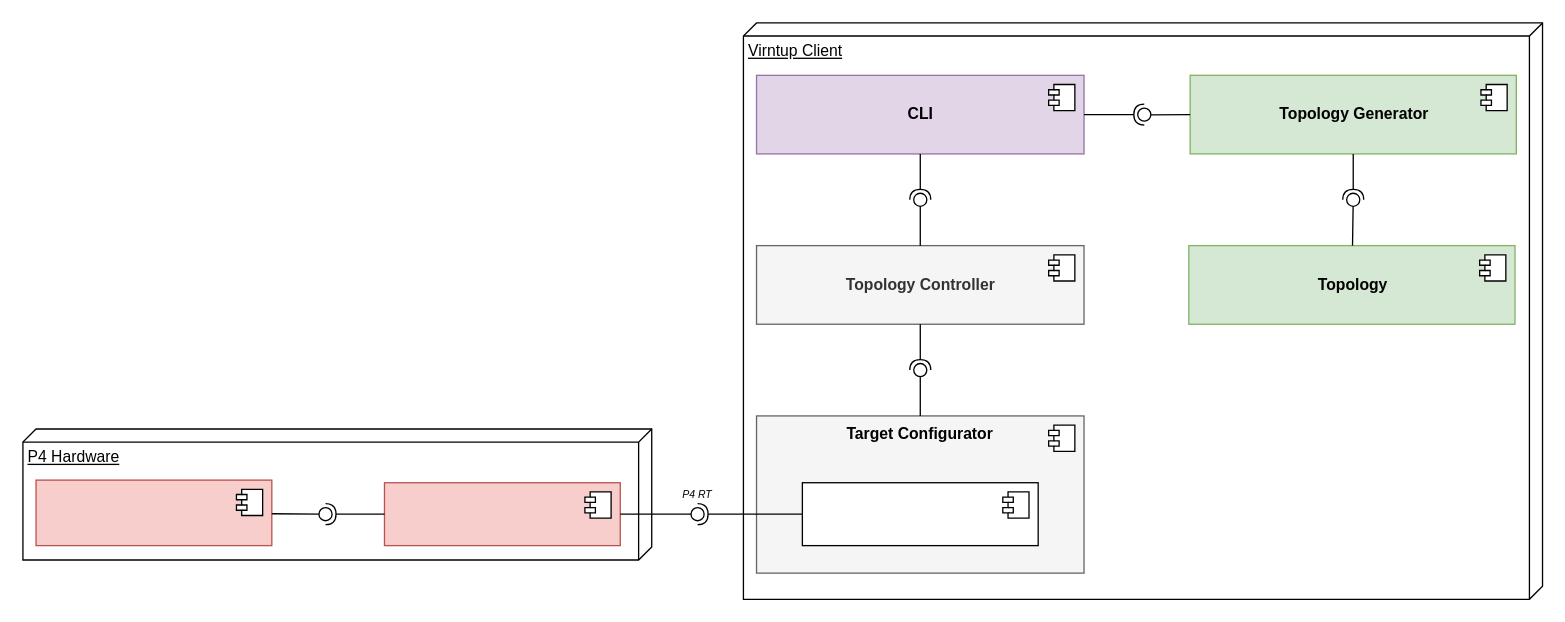
Image size: 1565x622. Some labels were removed from this diagram. Each missing label, with the centre of its shape:
P4 Runtime Shell: the point at 919,513
P4 Target: the point at 153,512
PI: the point at 501,513
